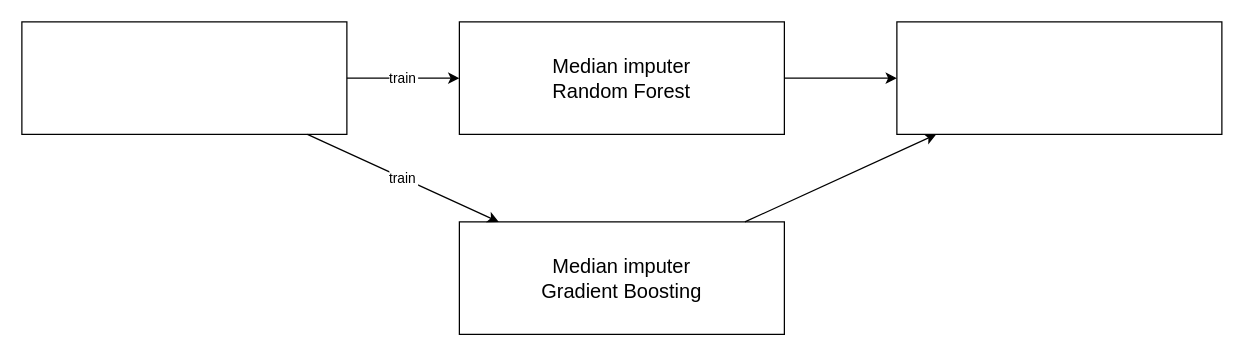
Image size: 1244x356. Some labels were removed from this diagram. The centre of each missing label's shape, as x and y in pixels:
"Churn table 75:25 split" belongs at [184,77].
"Same test rows Accuracy and F1" belongs at [1059,77].
